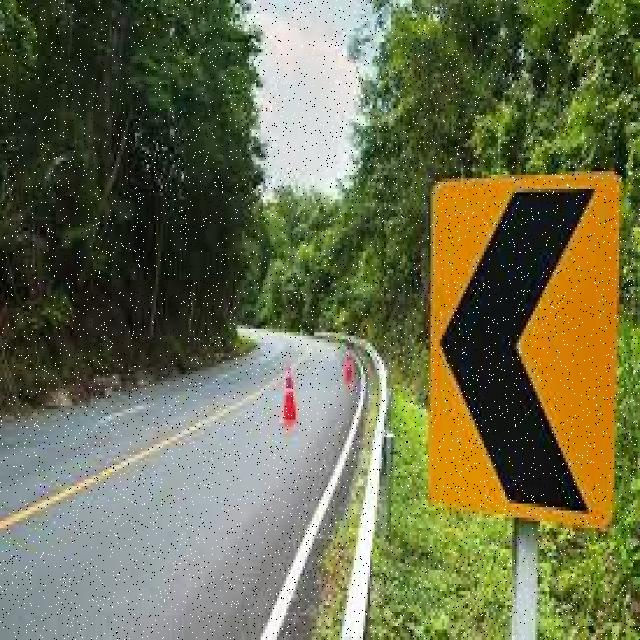chevron_left: (428, 174, 622, 512)
